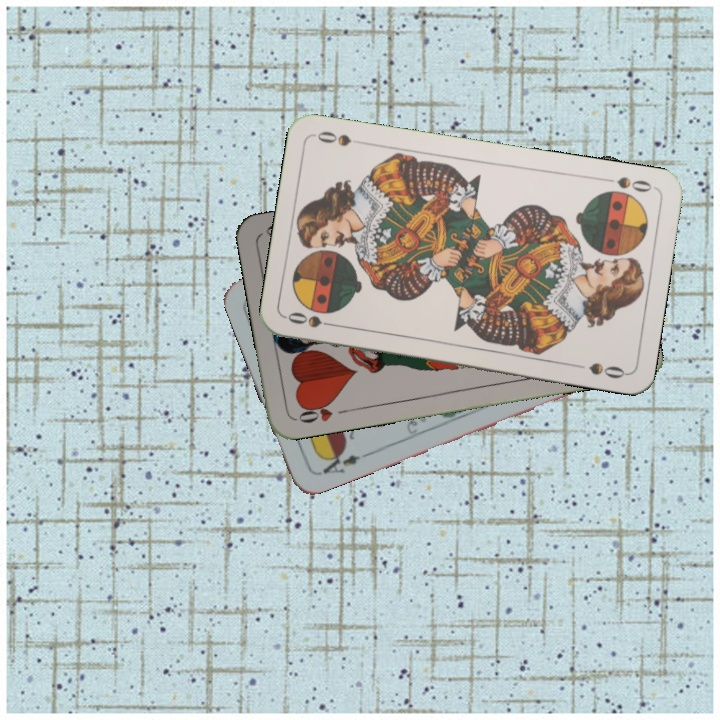EA: (314, 446, 363, 478)
HO: (292, 397, 351, 426)
SO: (283, 308, 342, 331), (599, 172, 658, 195)
